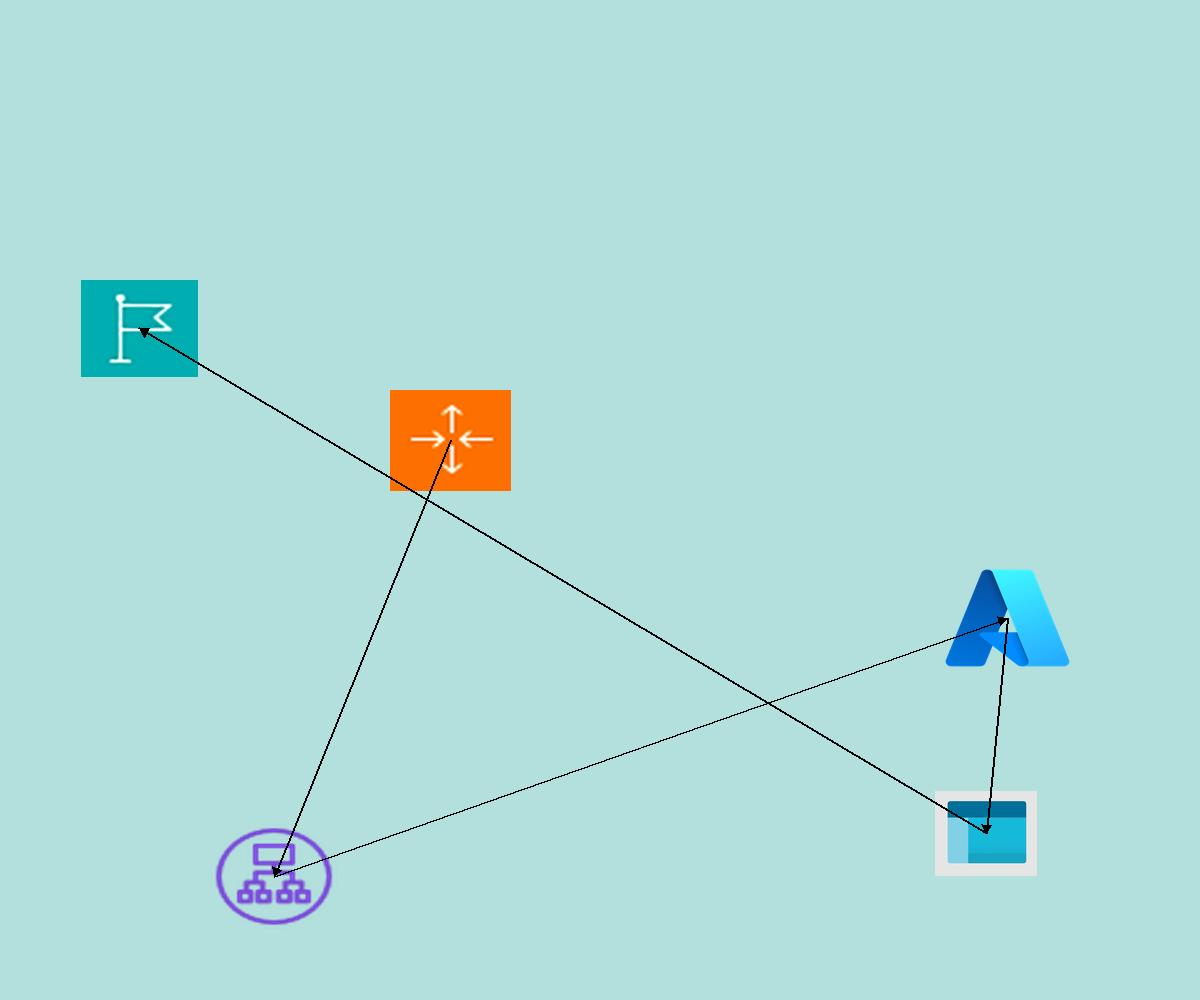AWS-Region: (81, 280, 198, 377)
AWS-Res_Elastic-Load-Balancing_Application-Load-Balancer: (211, 824, 337, 929)
AWS-Scaling-group: (390, 390, 511, 491)
Azure_management-portal: (935, 791, 1037, 876)
Azure_services: (940, 562, 1075, 674)
